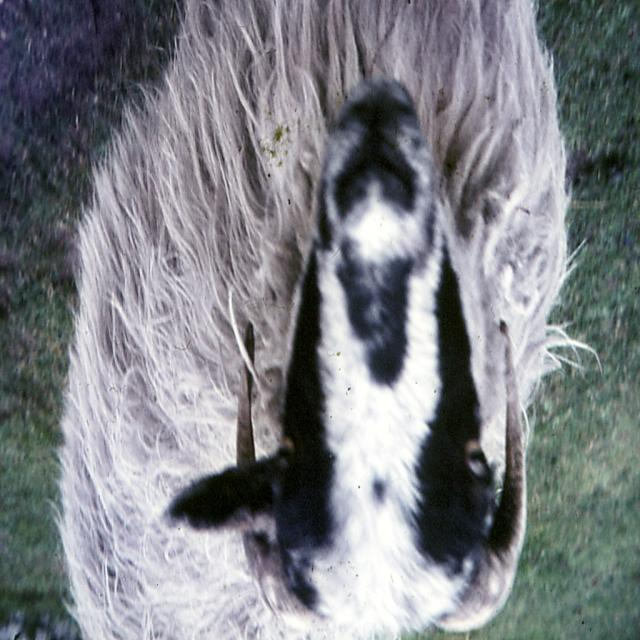Goat: (52, 3, 601, 639)
